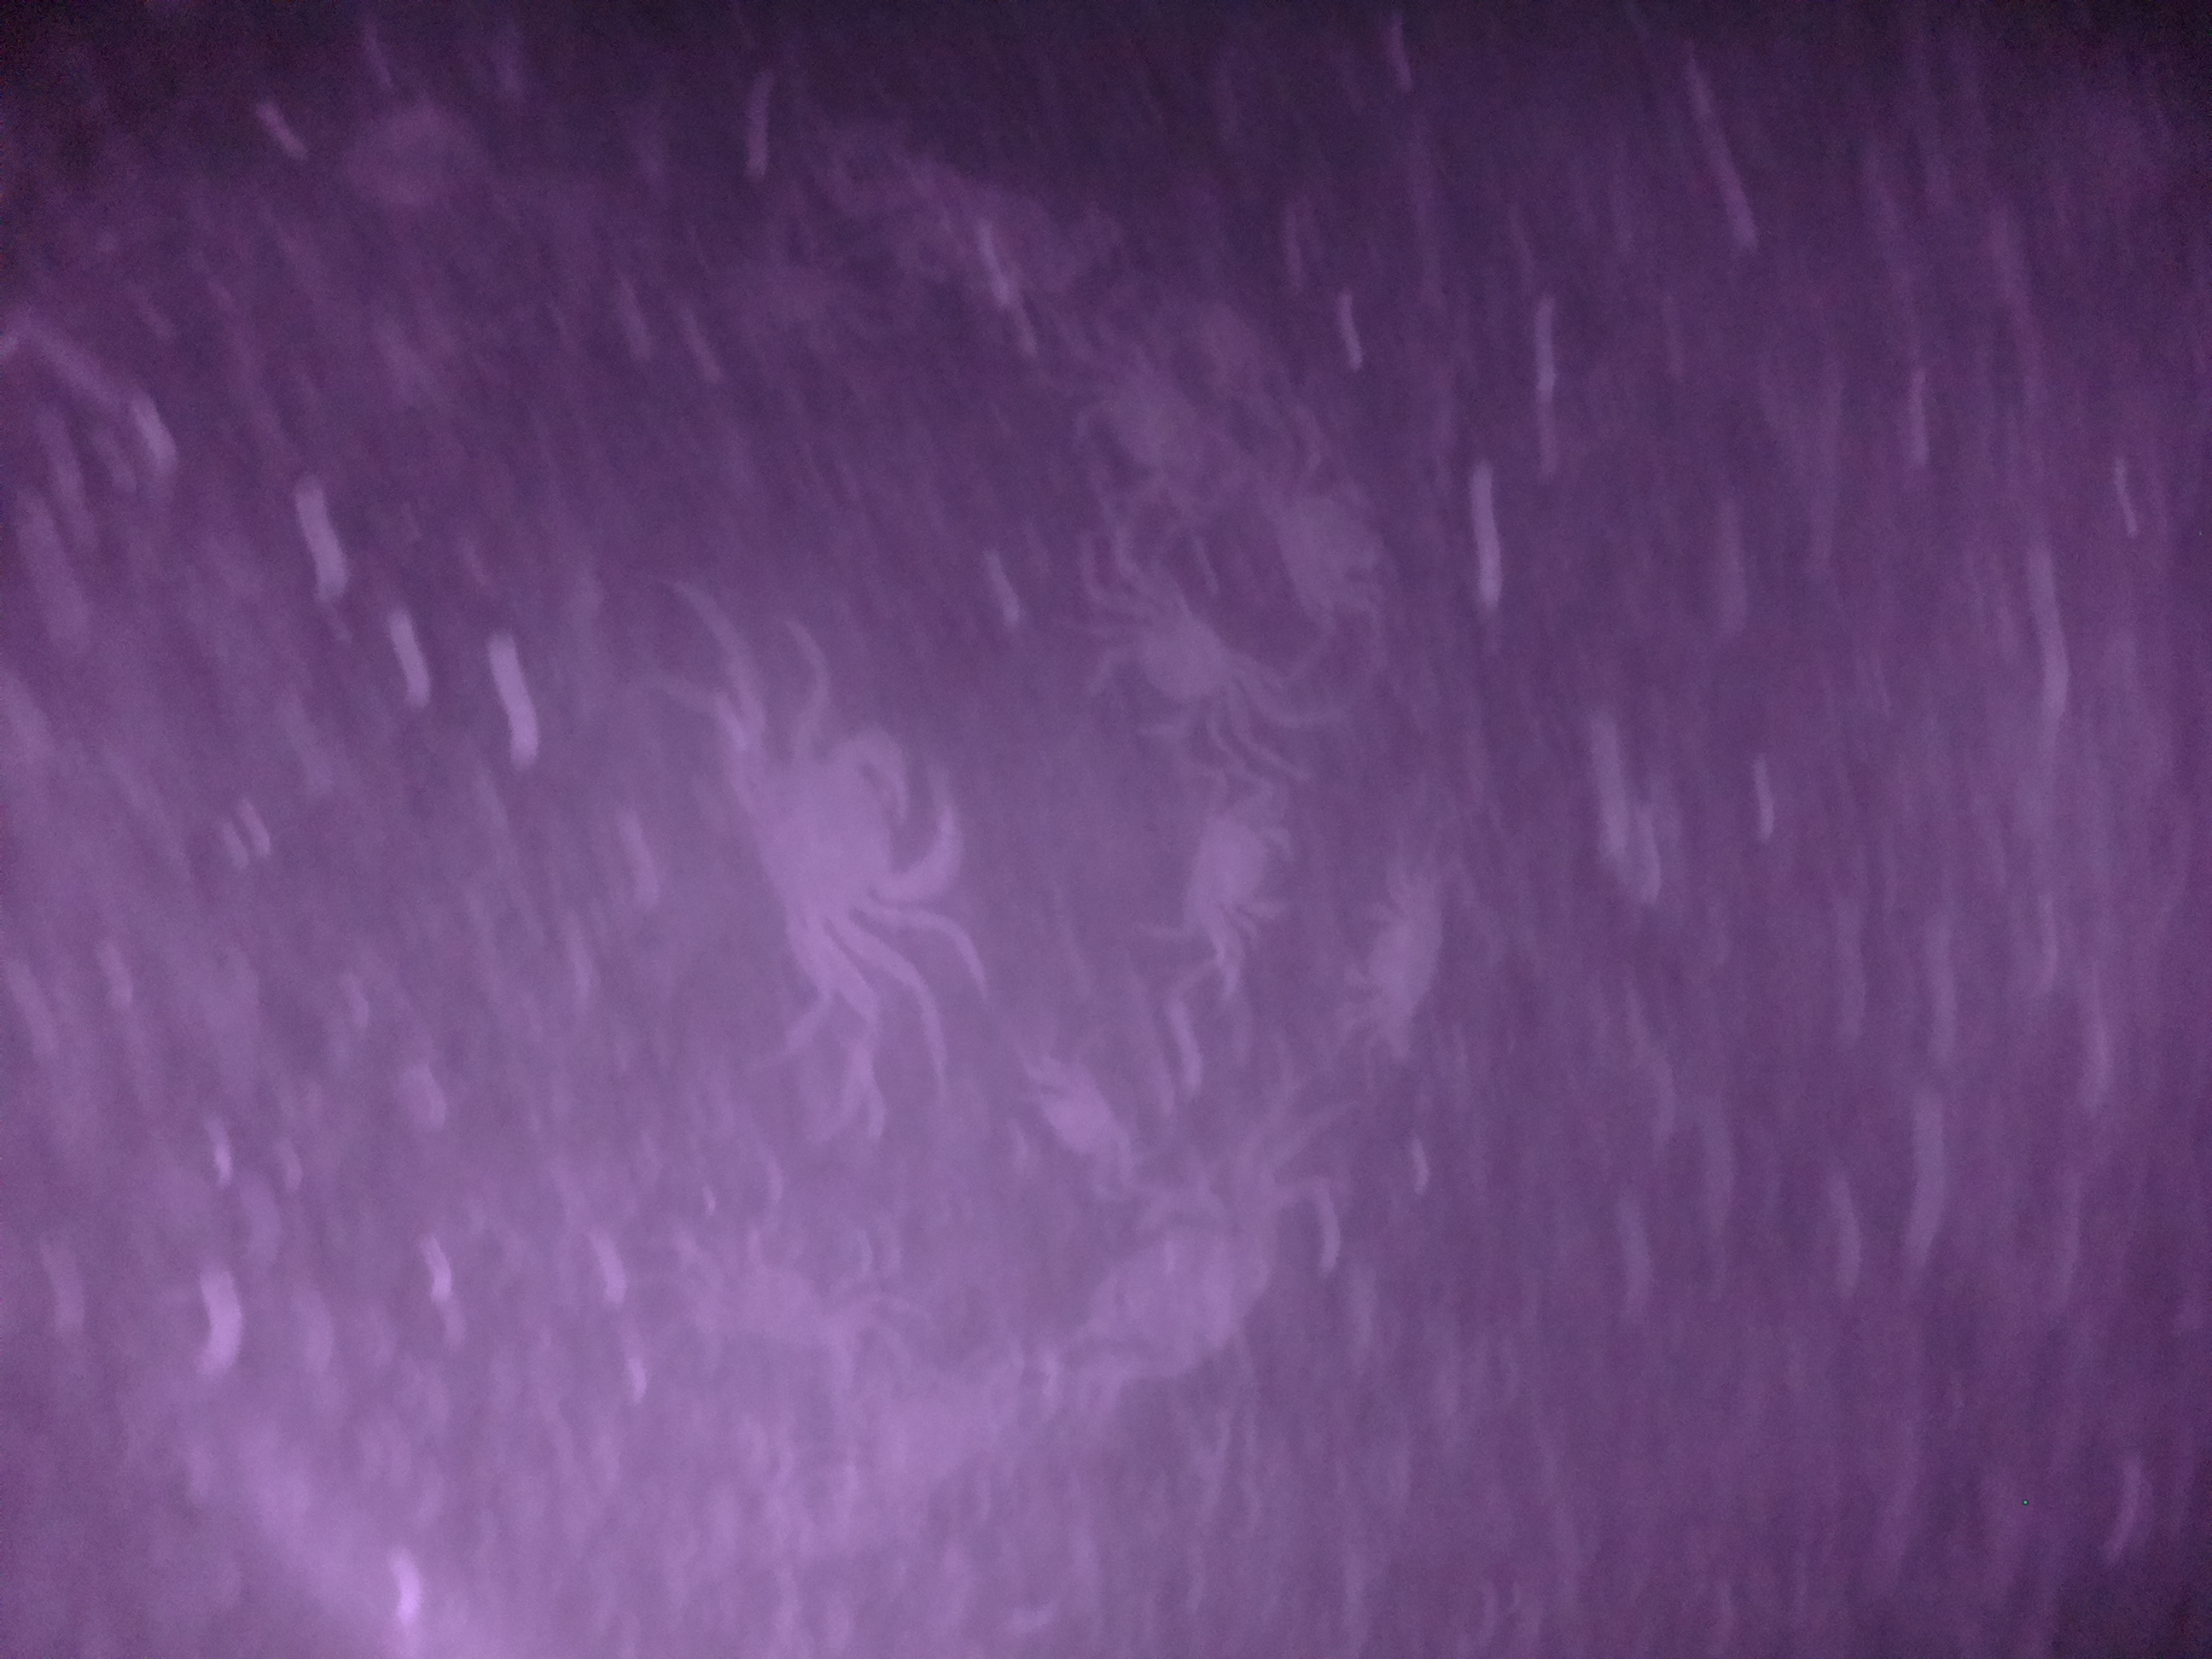Crab: (691, 701, 998, 974), (1078, 540, 1263, 763), (1176, 765, 1299, 983)
